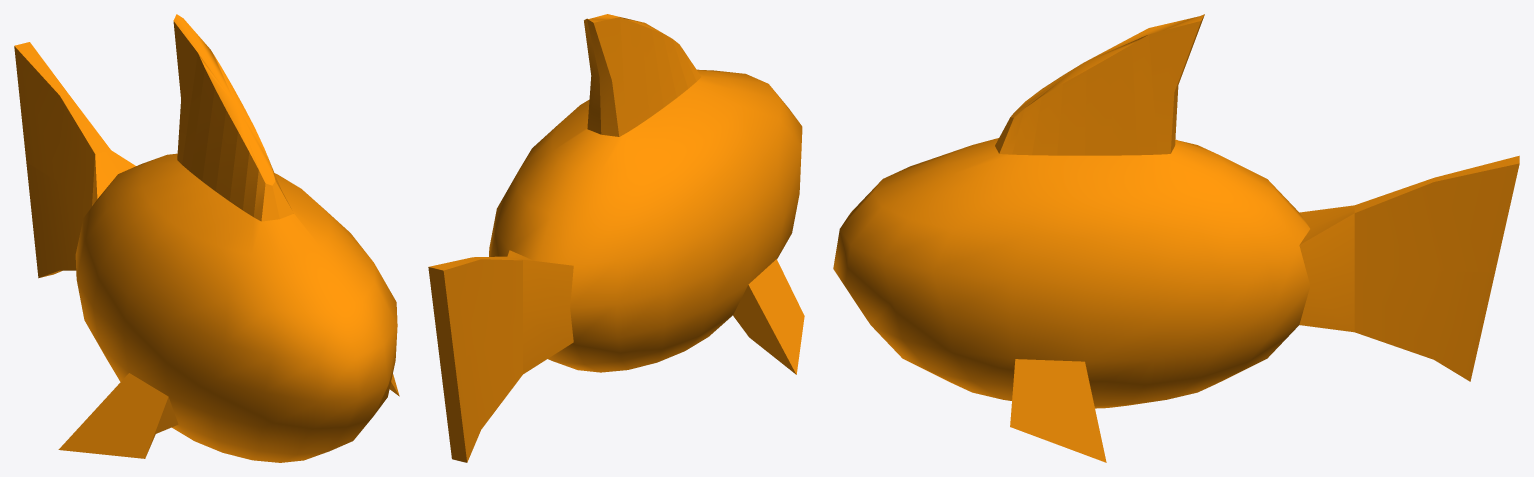
Rendered from fishfbx.fbx.
The picture shows the model from 3 angles, left to right: view 1: azimuth 30°, elevation 25°; view 2: azimuth 150°, elevation 25°; view 3: azimuth 270°, elevation 25°; orthographic projection. The views are drawn at different scales.
Parts seen in each view (by area): view 1: pSphere1; view 2: pSphere1; view 3: pSphere1.
Boxes of the visible parts, left/top/right/bottom form: pSphere1: left=14, top=14, right=399, bottom=462; pSphere1: left=428, top=14, right=804, bottom=462; pSphere1: left=833, top=14, right=1519, bottom=462.
Bounding box in the file's own units: 2.75 × 2.97 × 4.81.
